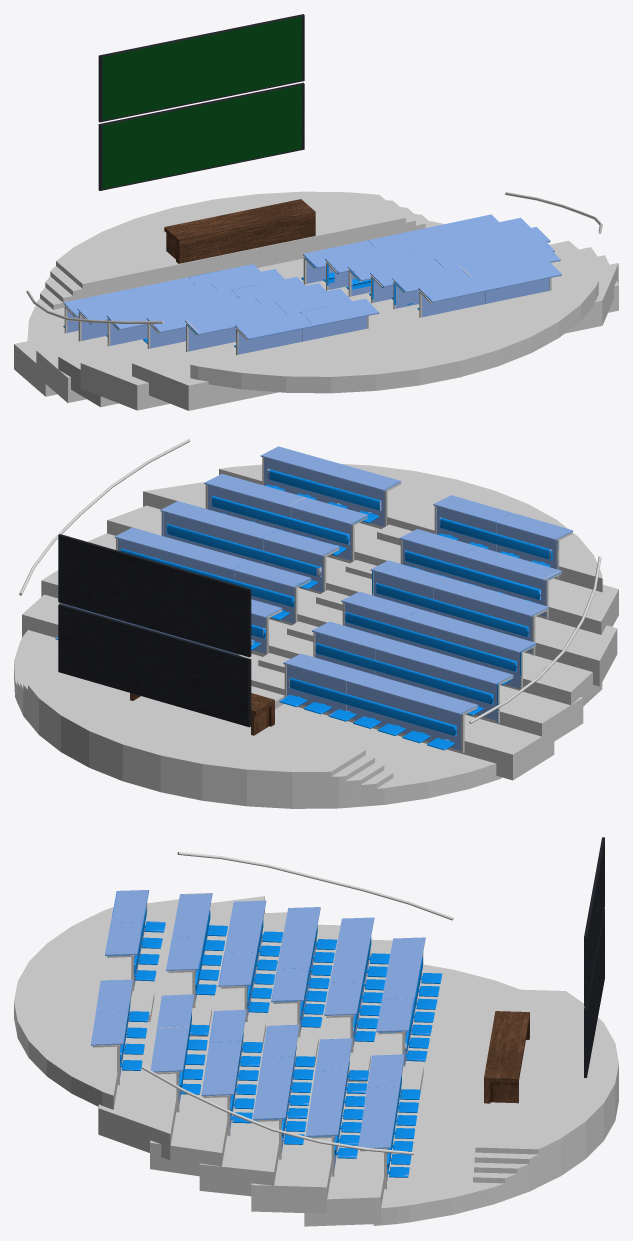
Rendered from small_lecture.fbx.
The picture shows the model from 3 angles, top to bottom: view 1: azimuth 30°, elevation 25°; view 2: azimuth 150°, elevation 25°; view 3: azimuth 270°, elevation 25°; orthographic projection. The views are drawn at different scales.
Parts seen in each view (by area): view 1: Line1086.004, Cube.057, Cube.061, Cube.063, Cube.059, Tube017.004; view 2: Line1086.004, Cube.057, Cube.061, Cube.063, Tube017.004, Cube.059; view 3: Line1086.004, Cube.057, Cube.059, Tube017.004, Cube.063, Cube.061.
Part boxes in pixels (x1=…): Line1086.004: x1=14, y1=191, x2=618, y2=410; Cube.057: x1=63, y1=214, x2=561, y2=355; Cube.061: x1=98, y1=82, x2=304, y2=190; Cube.063: x1=98, y1=14, x2=304, y2=122; Cube.059: x1=164, y1=199, x2=315, y2=263; Tube017.004: x1=26, y1=192, x2=602, y2=323; Line1086.004: x1=14, y1=464, x2=618, y2=808; Cube.057: x1=55, y1=446, x2=572, y2=753; Cube.061: x1=58, y1=604, x2=251, y2=727; Cube.063: x1=58, y1=534, x2=251, y2=657; Tube017.004: x1=19, y1=439, x2=601, y2=723; Cube.059: x1=130, y1=693, x2=274, y2=735; Line1086.004: x1=14, y1=896, x2=618, y2=1226; Cube.057: x1=91, y1=890, x2=442, y2=1189; Cube.059: x1=484, y1=1011, x2=529, y2=1103; Tube017.004: x1=141, y1=852, x2=453, y2=1154; Cube.063: x1=584, y1=837, x2=604, y2=1006; Cube.061: x1=584, y1=909, x2=604, y2=1077.
Bounding box in the file's own units: 1241 × 487 × 1201.
